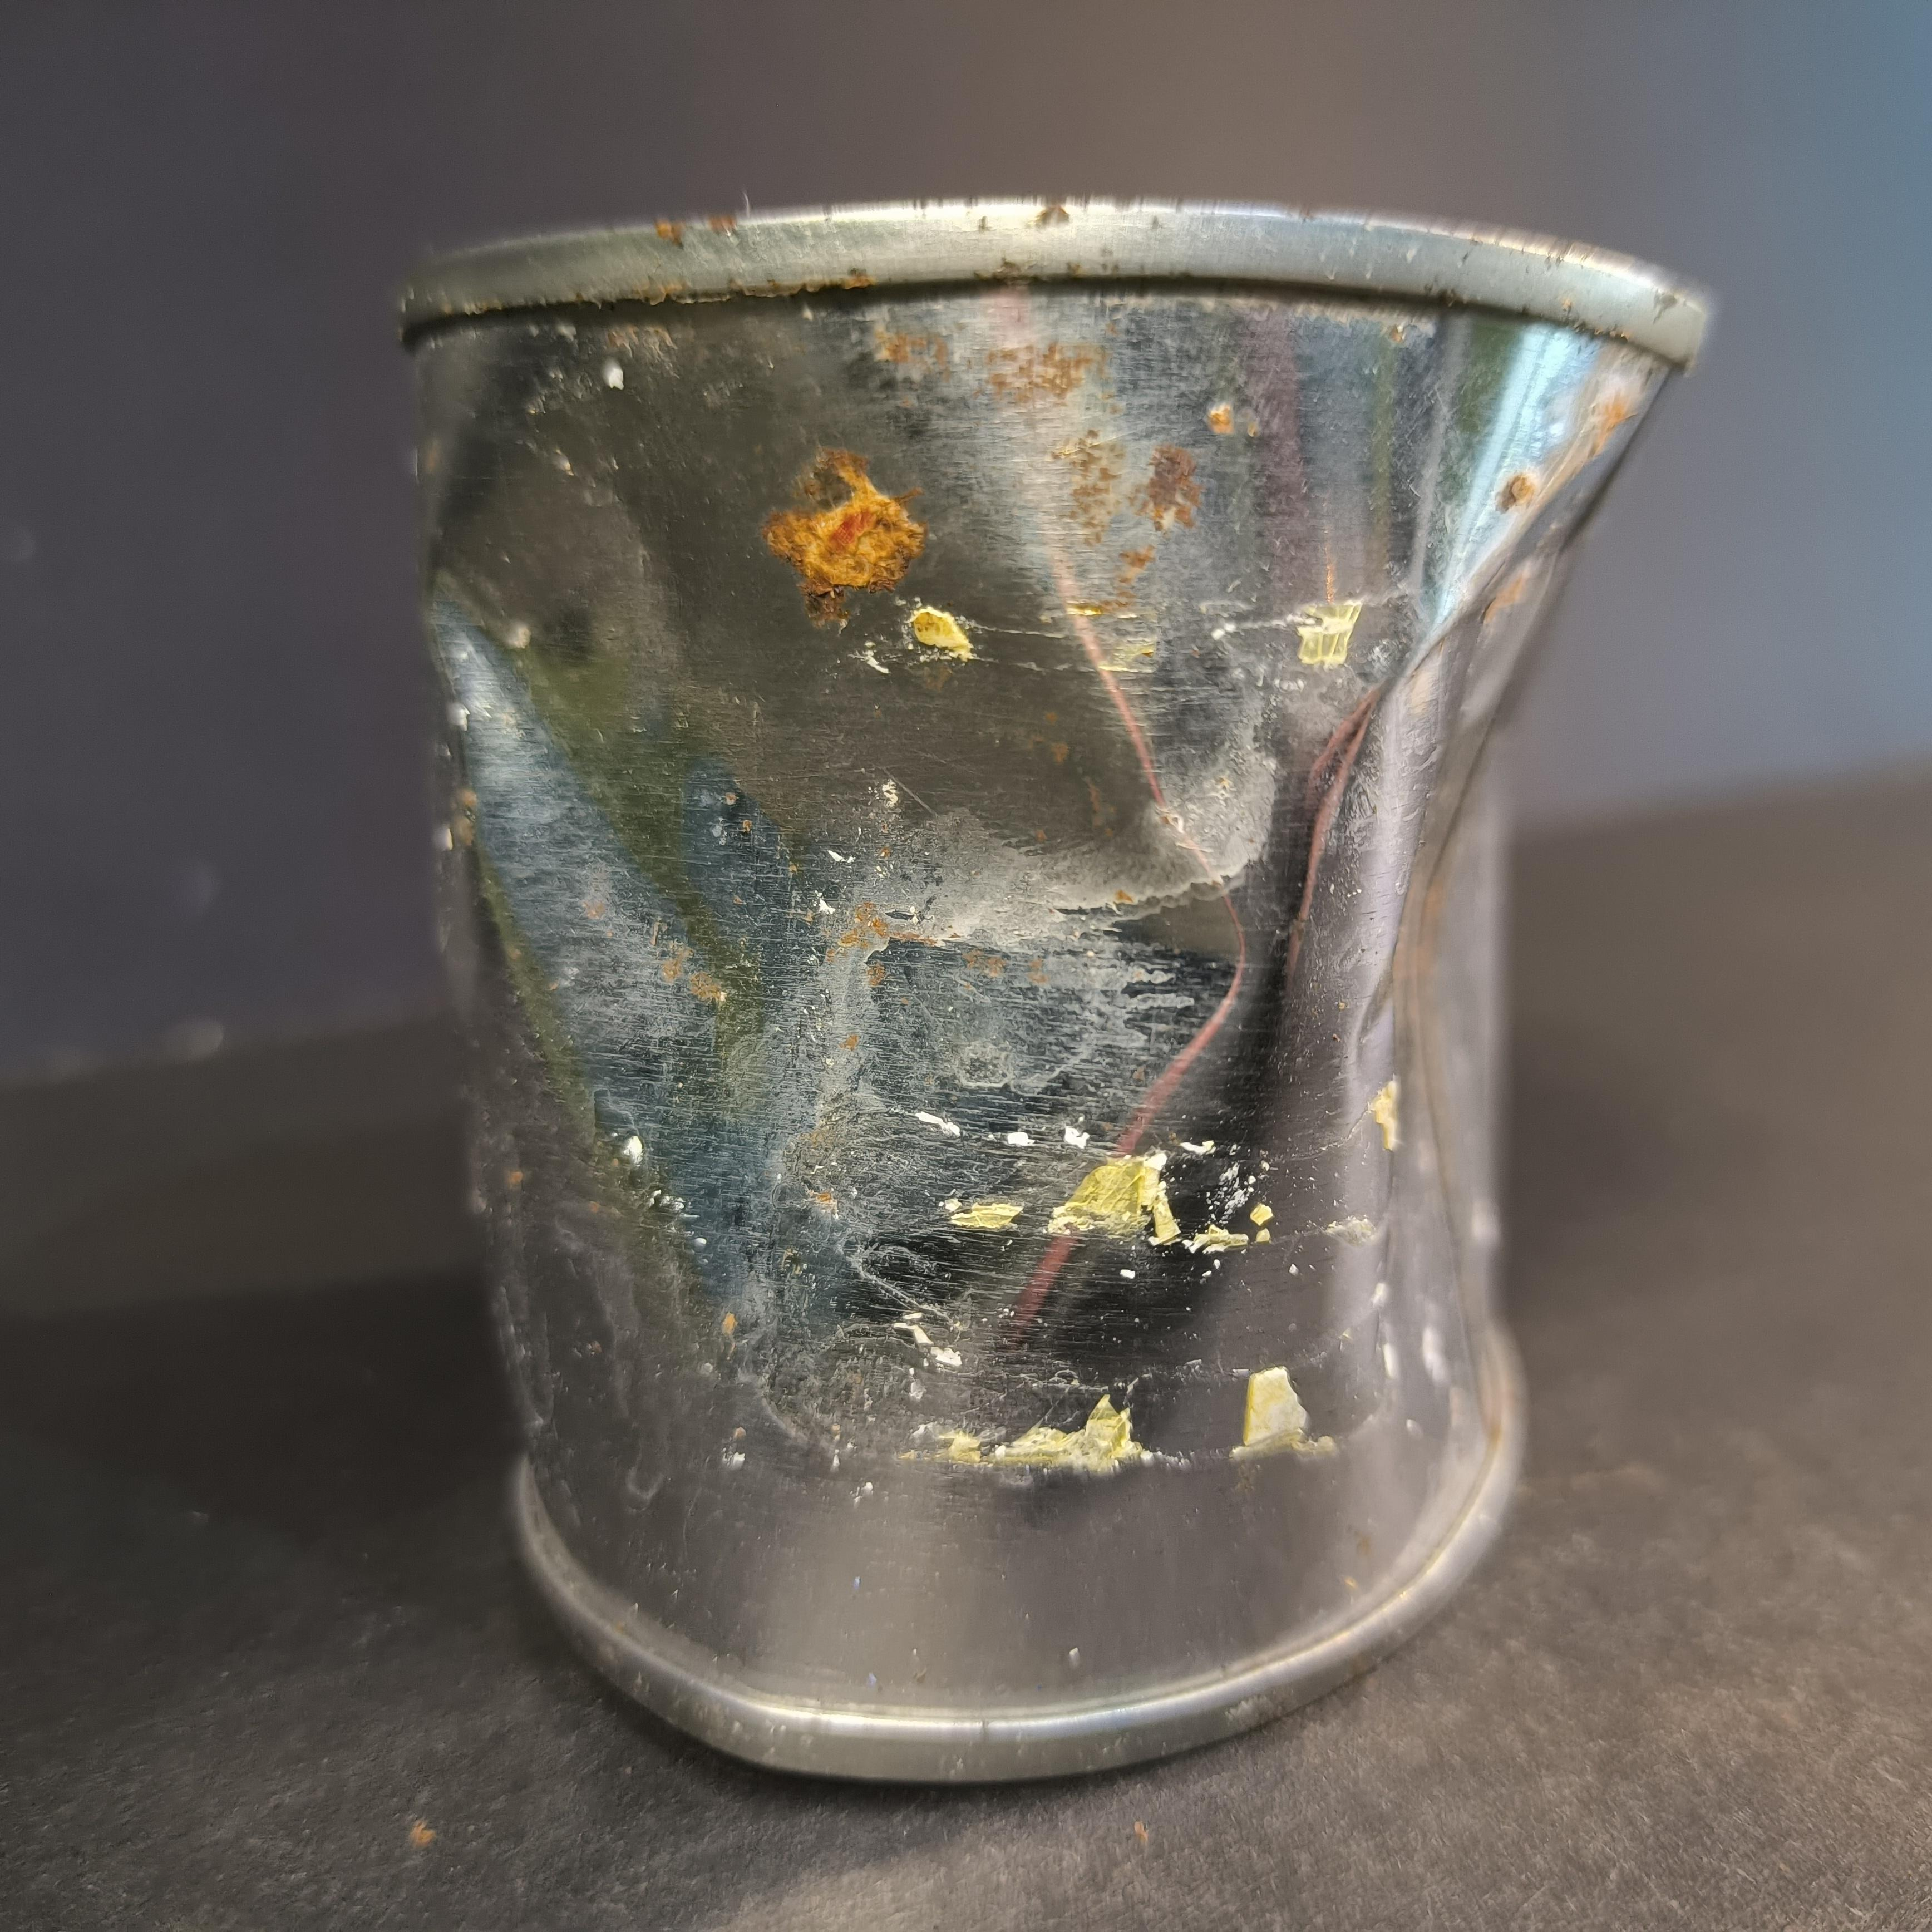Dented: (336, 175, 1753, 1792)
